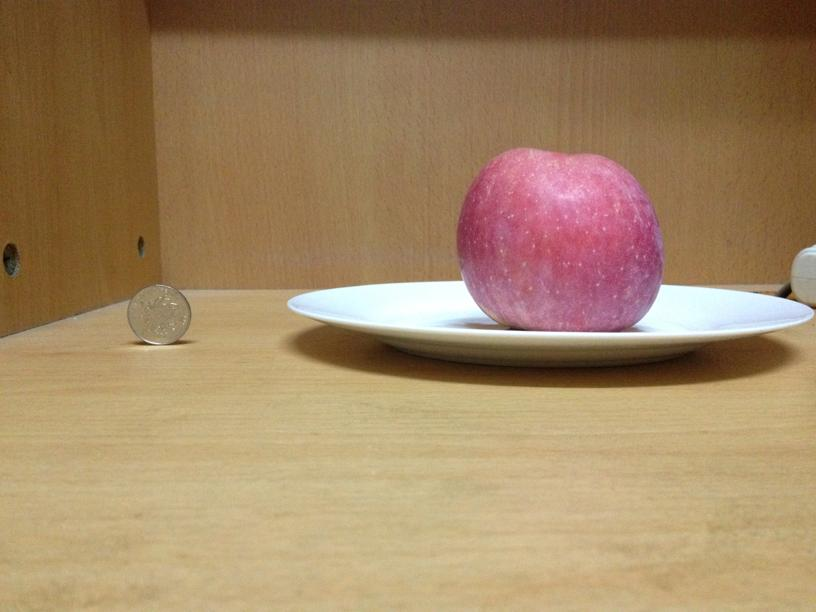apple: (456, 146, 665, 331)
coin: (127, 285, 191, 345)
